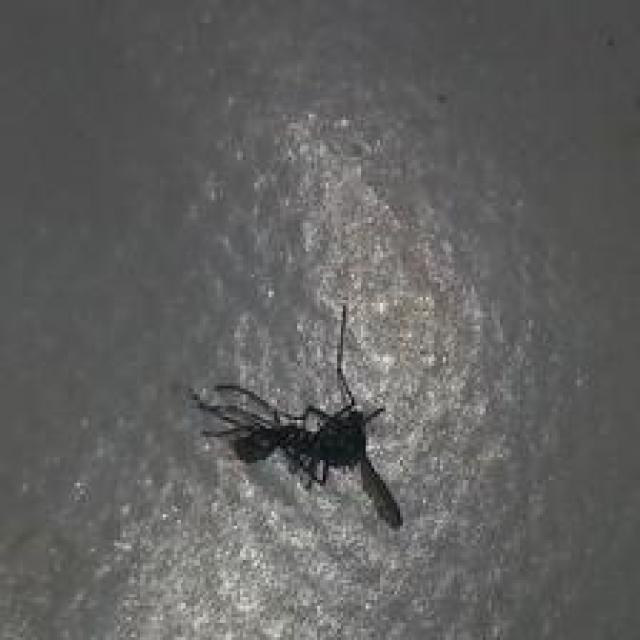Aedes albopictus: (187, 303, 404, 531)
